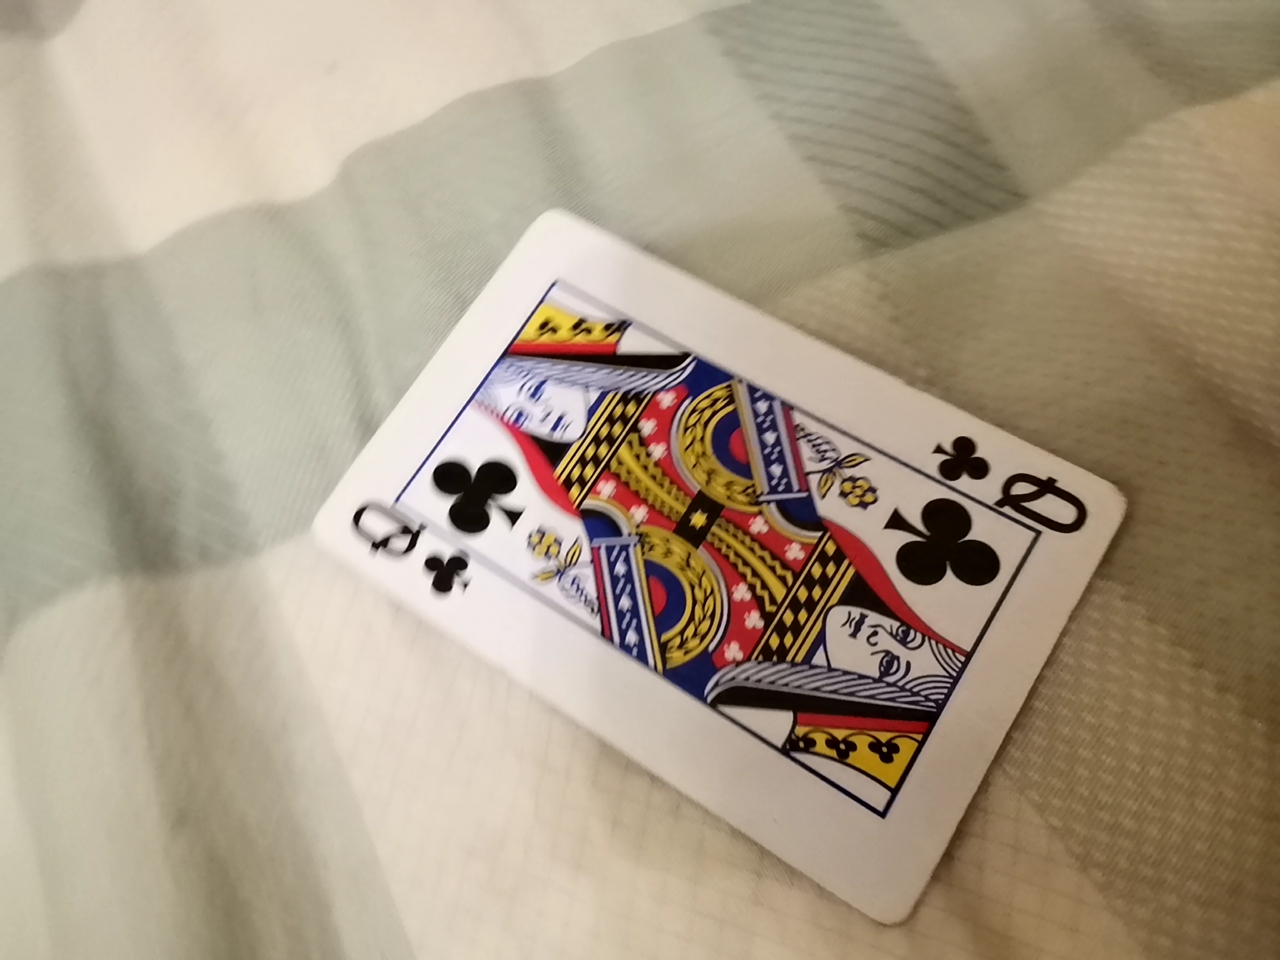mh q: (291, 203, 1121, 920)
